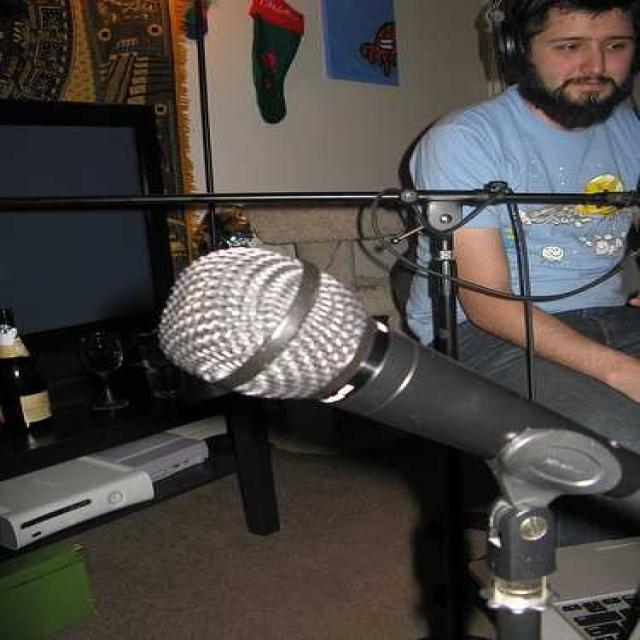microphone: (164, 247, 628, 506)
